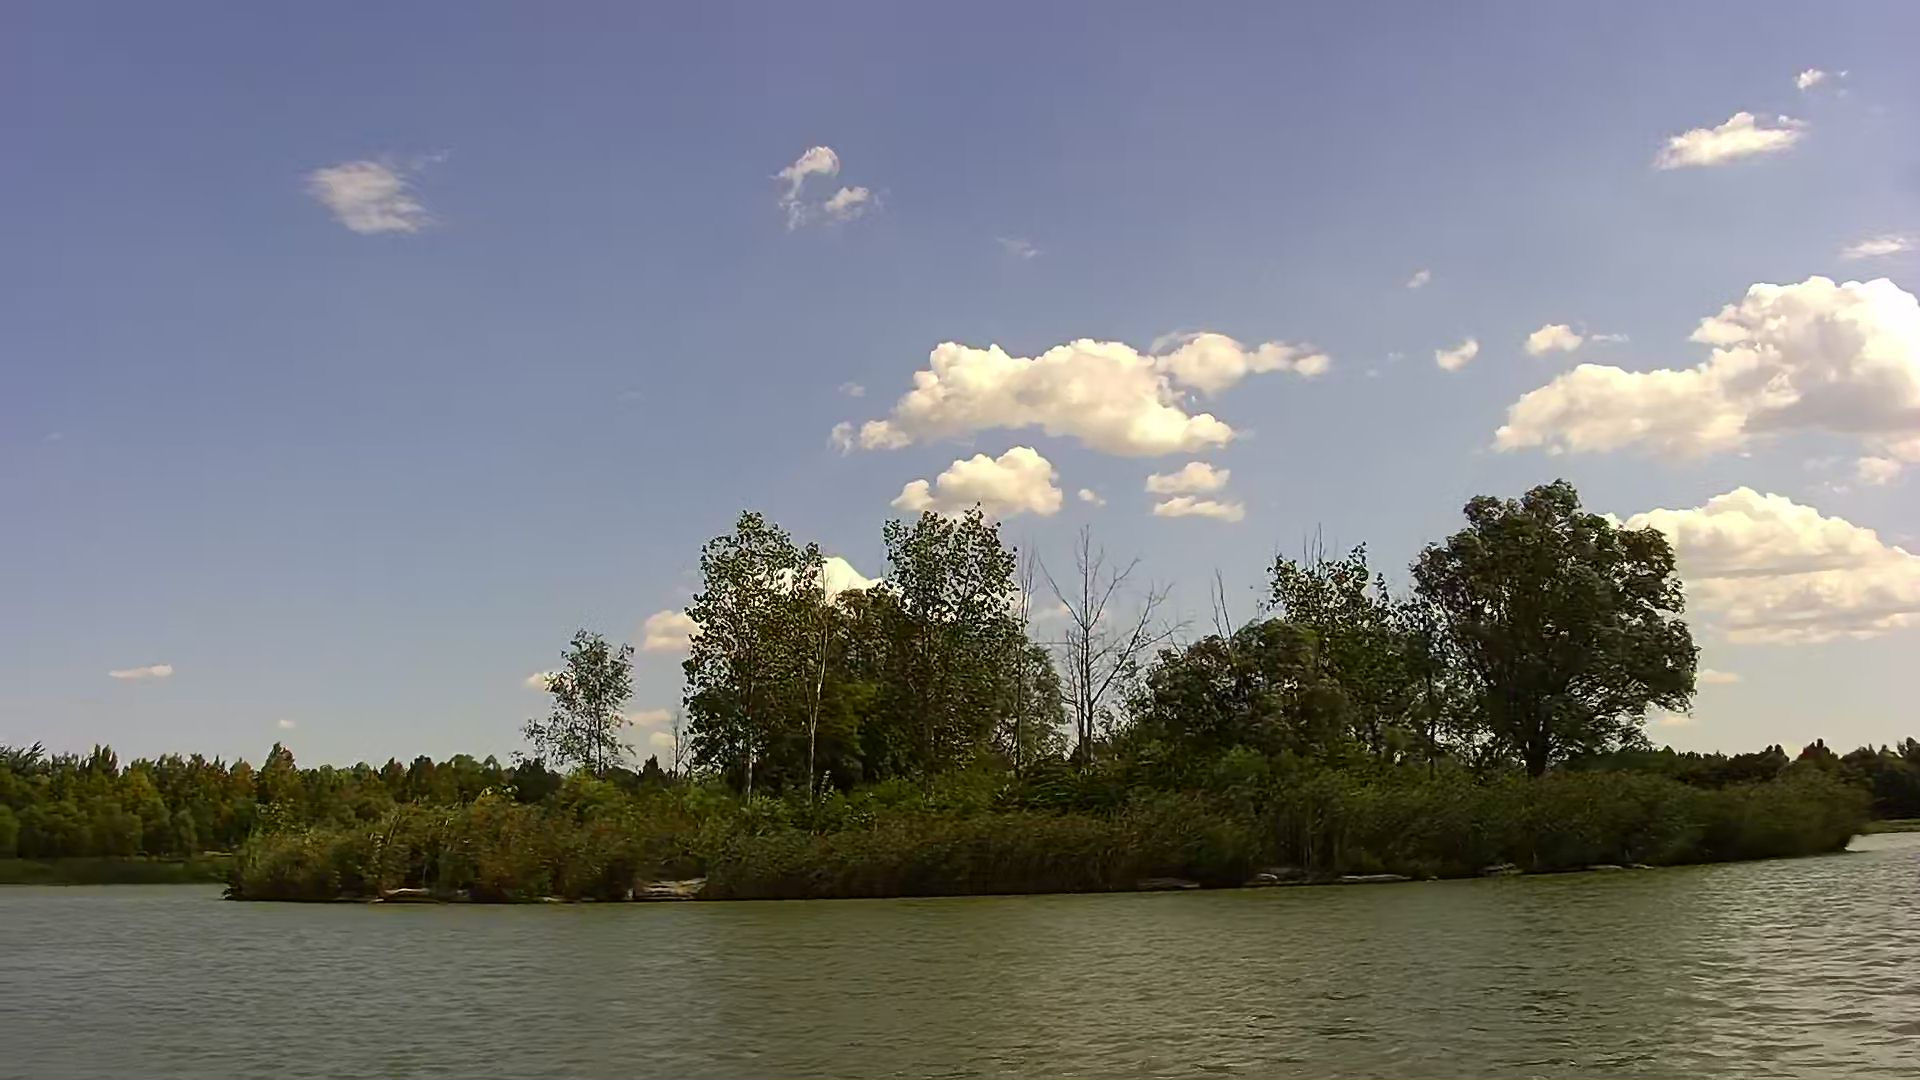rock: (632, 874, 705, 899), (377, 887, 462, 905)
